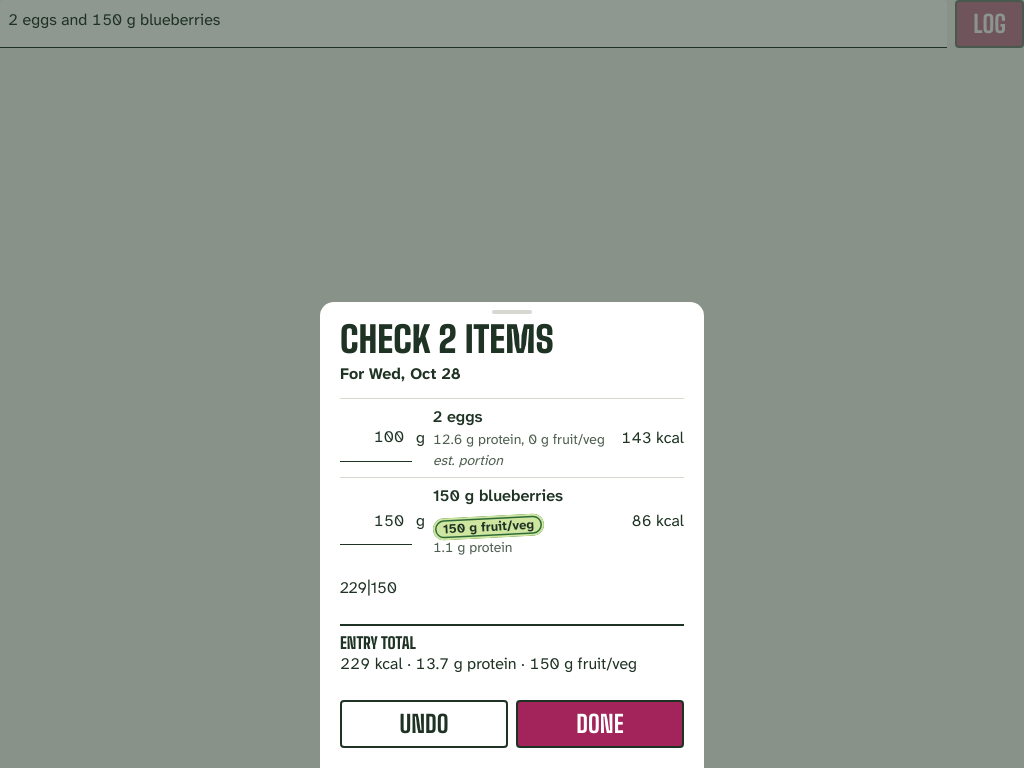
editing grams › recomputes the item, the entry total and the card without another call
The width and height of the screenshot is (1024, 768).
Earlier steps of the test are not shown.
Clear the field named "Grams of 2 eggs" at (376, 438), box [340,414,412,462]
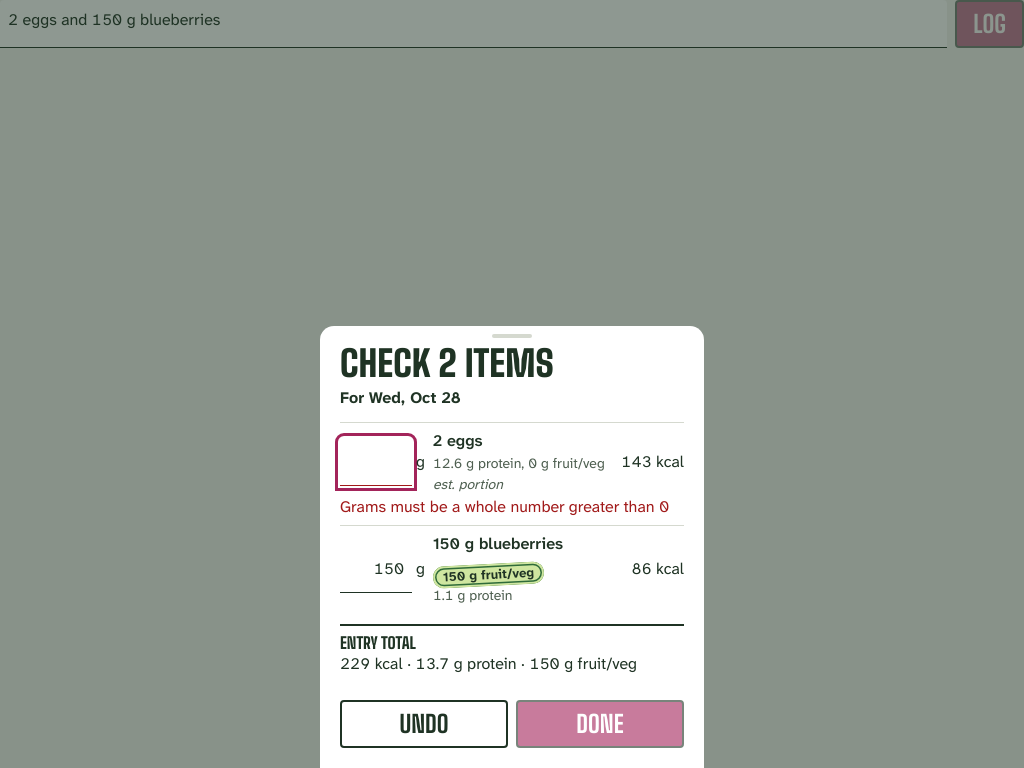
Type "200" into the field named "Grams of 2 eggs".
click(376, 462); type("200")  # box [340,438,412,486]
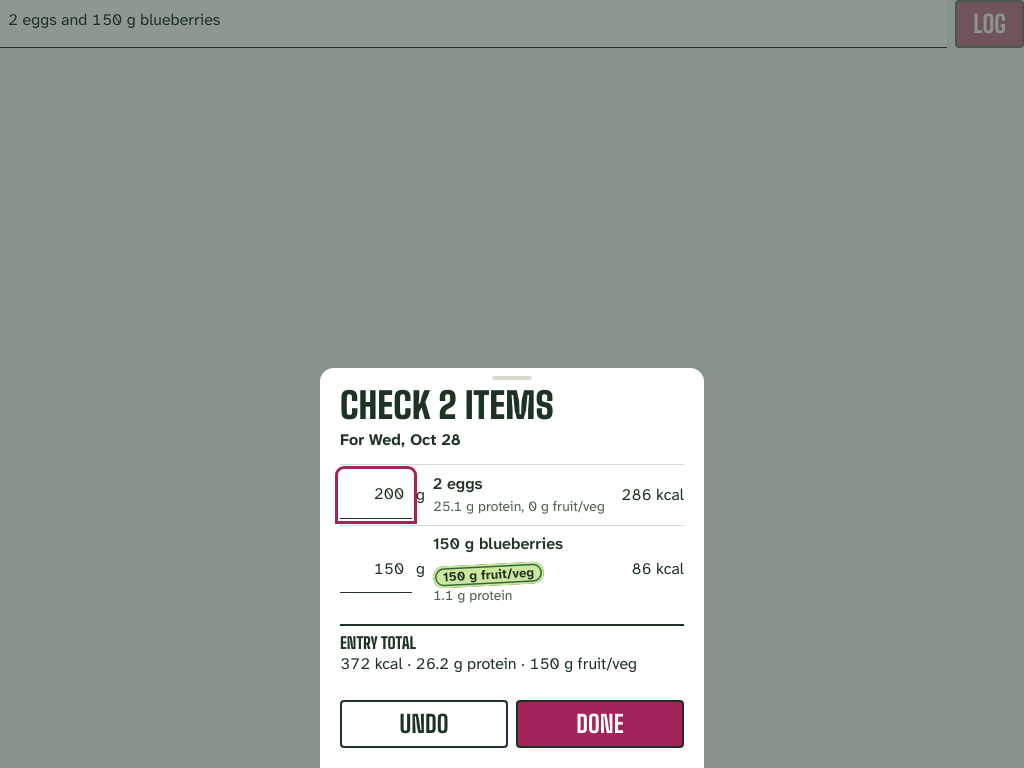
Expected: the list item "g 2 eggs 25.1 g protein, 0 g fruit/veg 286 kcal" is shown, [340,464,684,525]
Expected: the element "Entry total" shows "372 kcal", [340,653,403,674]
Click the heading "Check 2 items".
click(447, 405)  # box [340,384,554,427]
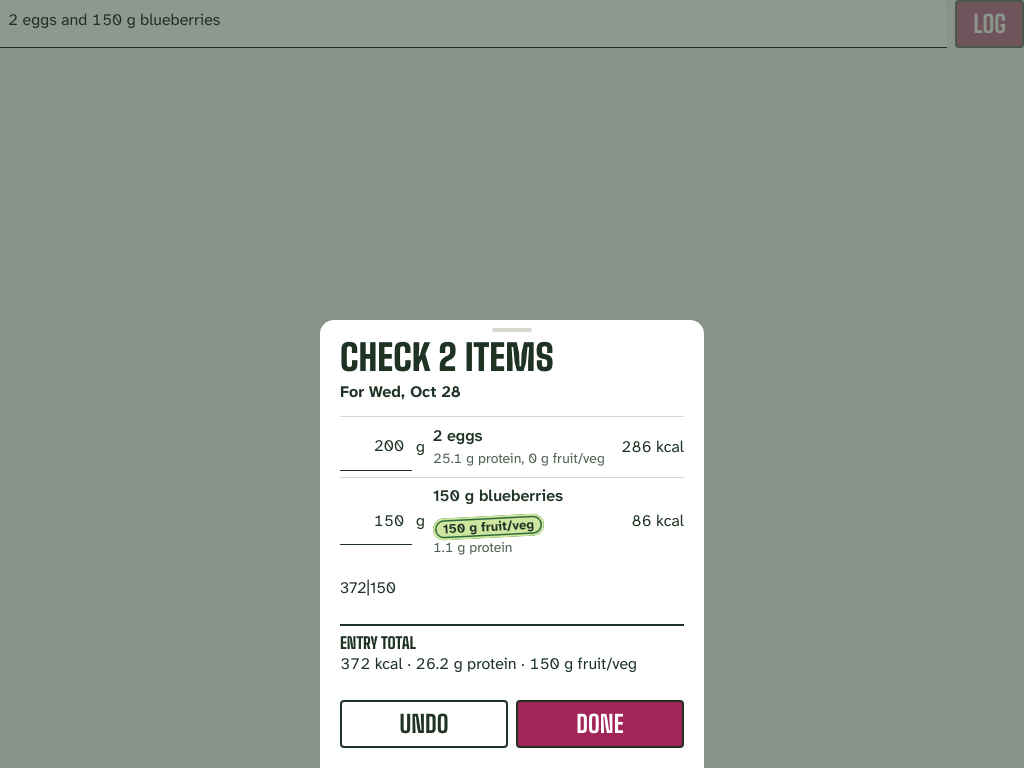
Expected: the text with test id "card" reads "372|150", [340,577,366,598]
Clear the field named "Grams of 150 g blueberries" at (376, 521), box [340,497,412,545]
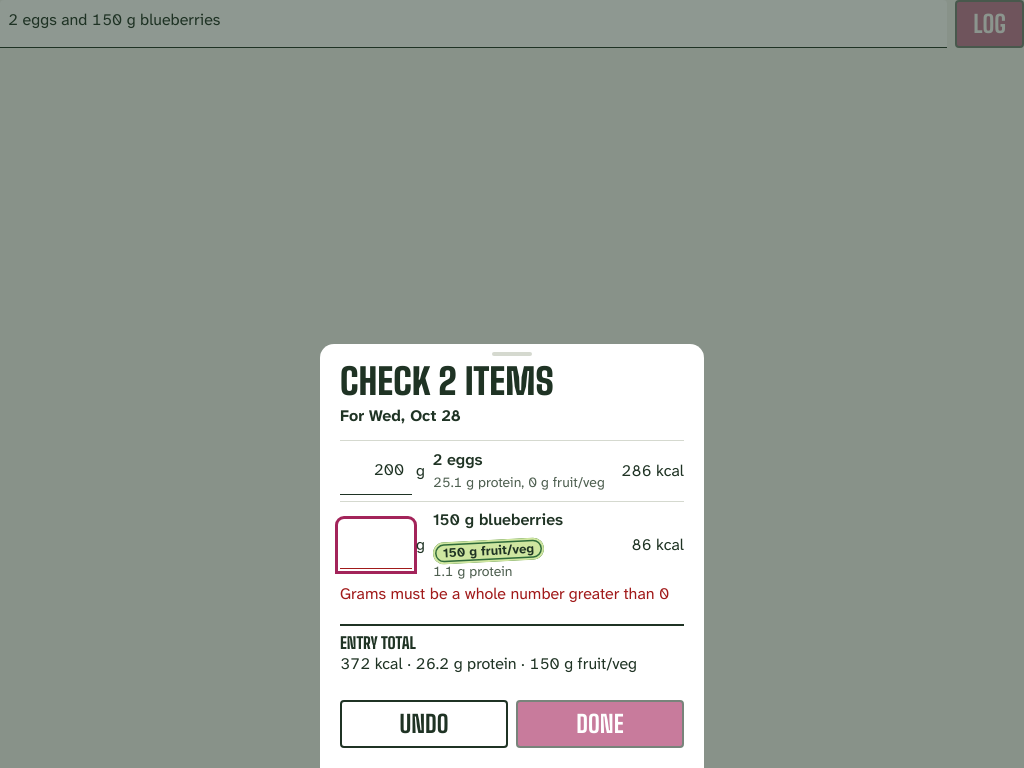
Type "300" into the field named "Grams of 150 g blueberries".
click(376, 545); type("300")  # box [340,521,412,569]
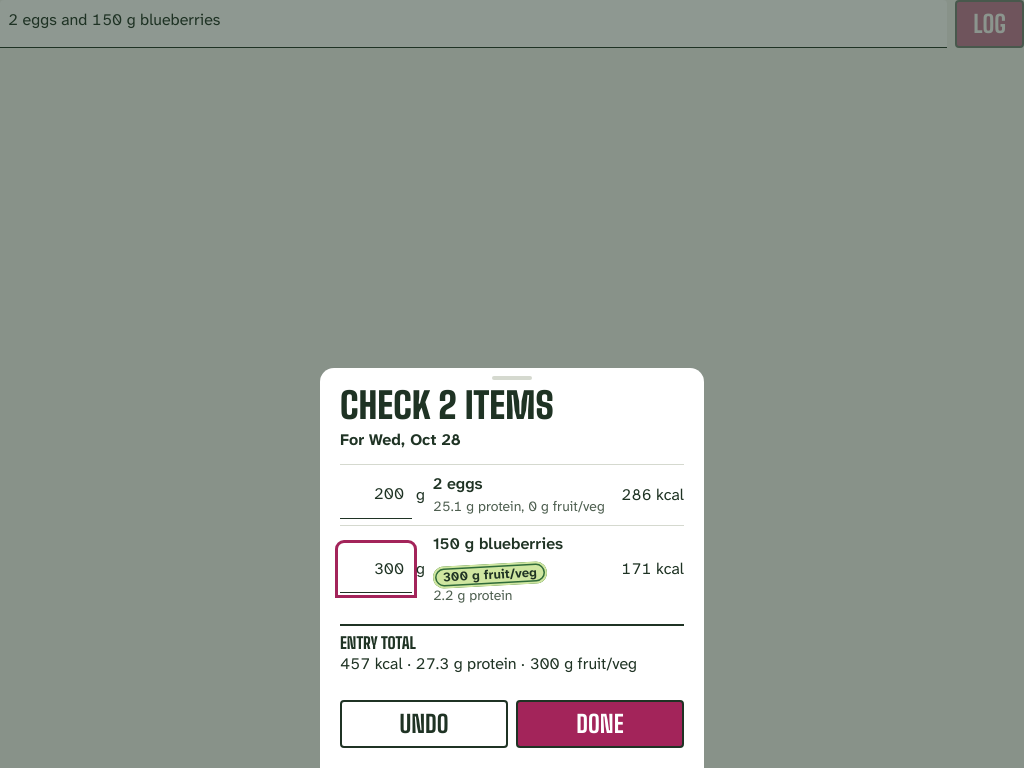
Expected: the list item "g 150 g blueberries 300 g fruit/veg 2.2 g protein 171 kcal" is shown, [340,525,684,612]
Click the heading "Check 2 items".
click(447, 405)  # box [340,384,554,427]
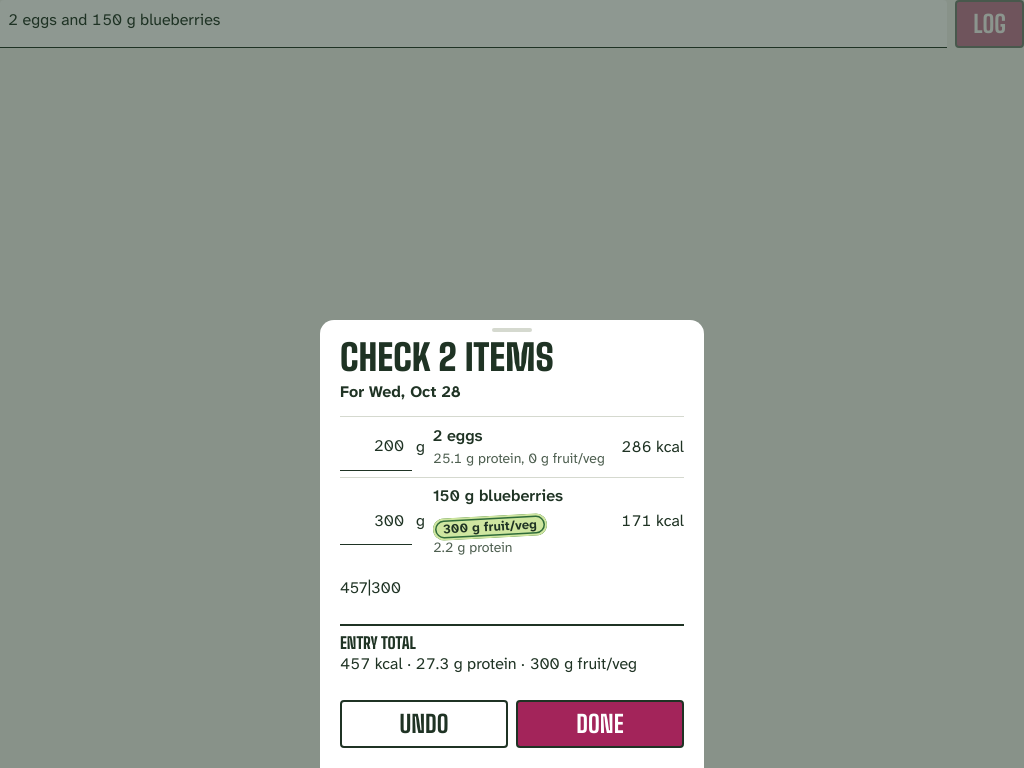
Expected: the text with test id "card" reads "457|300", [340,577,367,598]
